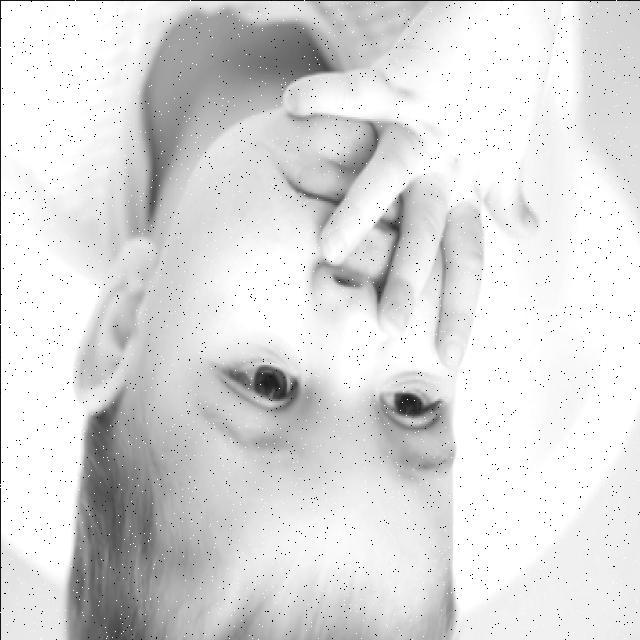face_no_mask: (128, 102, 454, 619)
